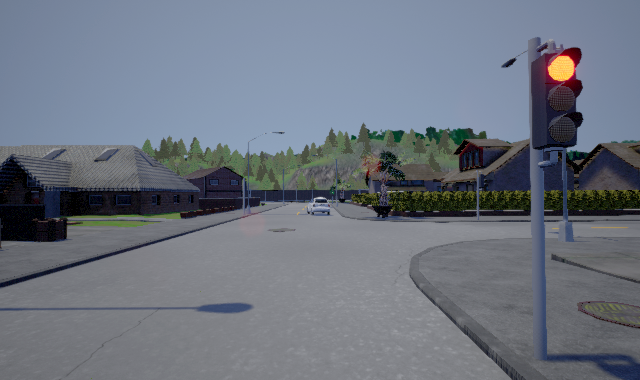traffic_light: (531, 39, 584, 168)
vehicle: (307, 197, 330, 215)
